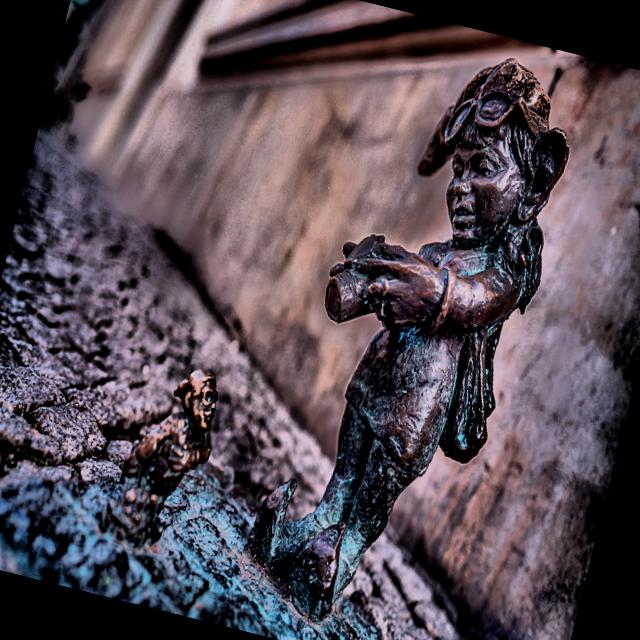Troszka i Adoratorek: (0, 59, 568, 640)
